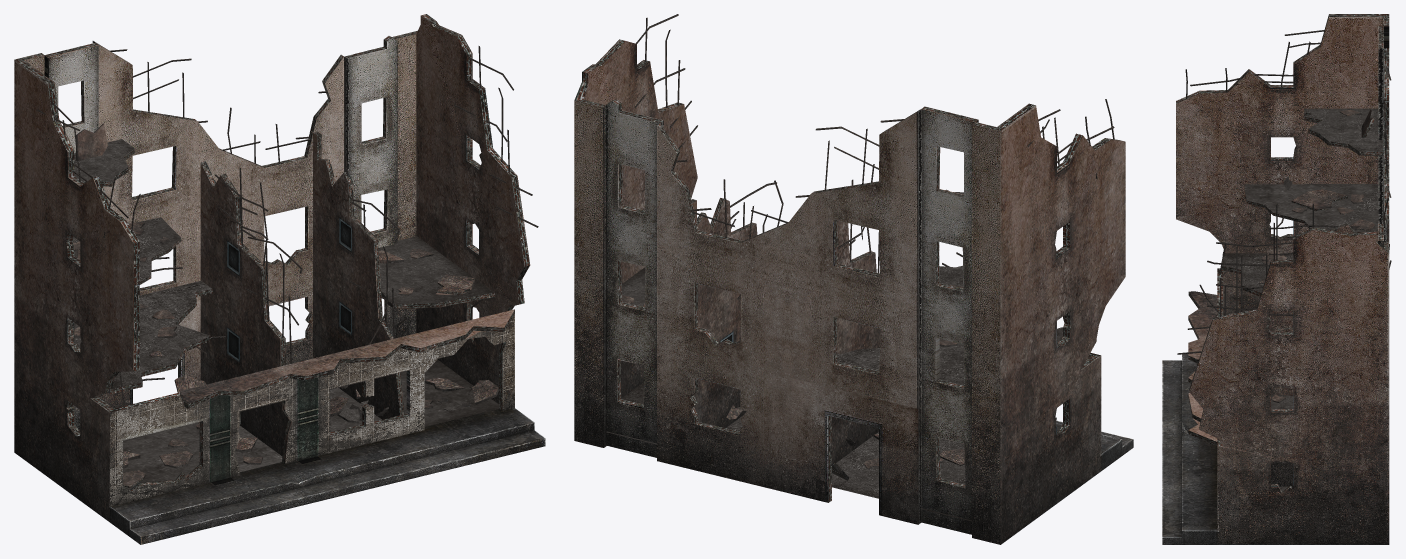
The model's file is buildings_08_ruin.FBX.
3 views of the same model, side by side, from view 1: azimuth 30°, elevation 25°; view 2: azimuth 150°, elevation 25°; view 3: azimuth 270°, elevation 25° (orthographic). The views are drawn at different scales.
Parts seen in each view (by area): view 1: Cone001; view 2: Cone001; view 3: Cone001.
Boxes of the visible parts, x1,y1,x2,y2 form: Cone001: (14,14,545,544); Cone001: (574,14,1133,544); Cone001: (1162,14,1391,544).
Size of the model in its own units: 1375 by 735 by 1250.
1 material, 1 textured.
